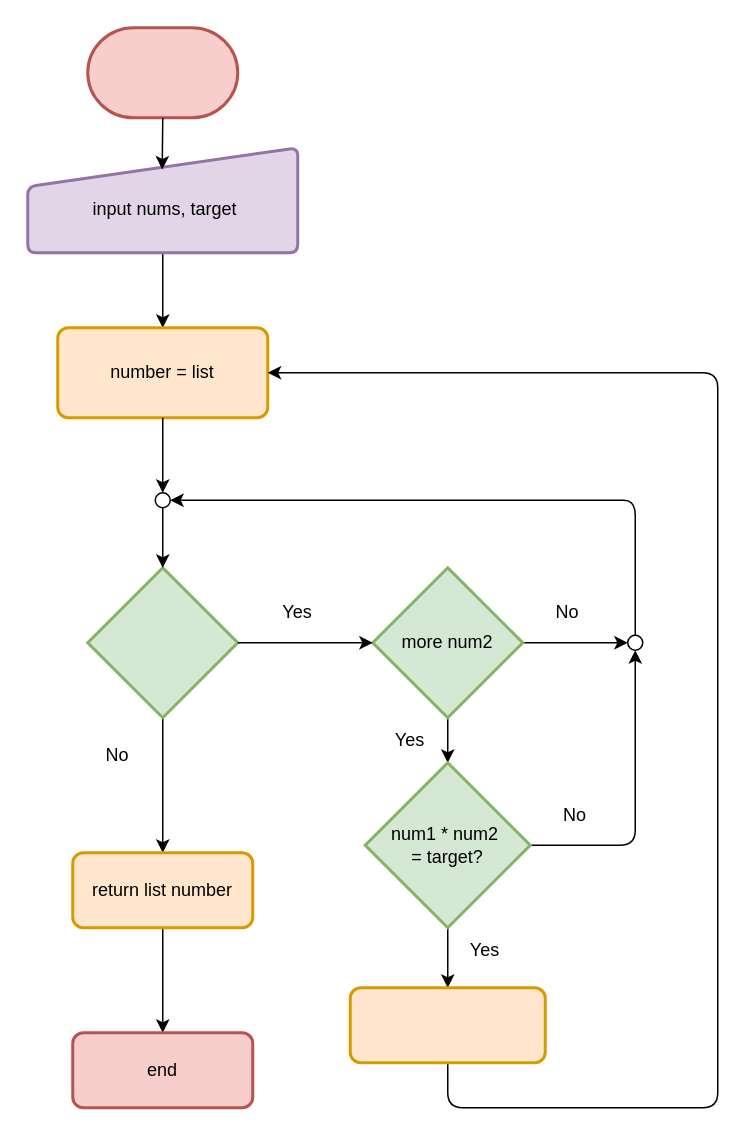
The diagram is 756 pixels wide and 1146 high, and some of its shapes have lost their labels. The shapes that lost their labels are listed below. From the top down, each one's centre as x and y in pixels, then its label:
At point 162,72: "start".
At point 162,642: "More num1?".
At point 447,1025: "apped(num1, num2)".
